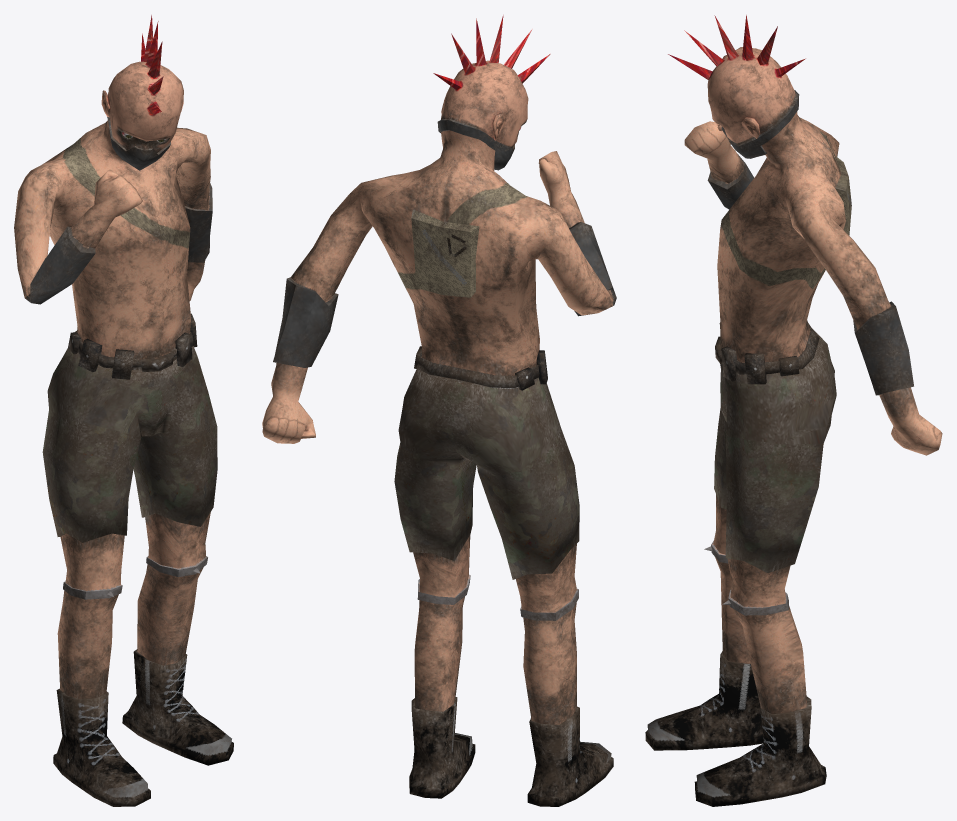
The model's file is Anim_perder_1_npc2.0034.obj.
The picture shows the model from 3 angles, left to right: view 1: azimuth 30°, elevation 25°; view 2: azimuth 150°, elevation 25°; view 3: azimuth 270°, elevation 25°; orthographic projection. The views are drawn at different scales.
Parts seen in each view (by area): view 1: polySurface1; view 2: polySurface1; view 3: polySurface1.
Part boxes in pixels (<box>): polySurface1: <box>14,15,233,806</box>; polySurface1: <box>262,15,616,806</box>; polySurface1: <box>645,15,942,806</box>.
Size of the model in its own units: 3.59 by 9.95 by 3.51.
